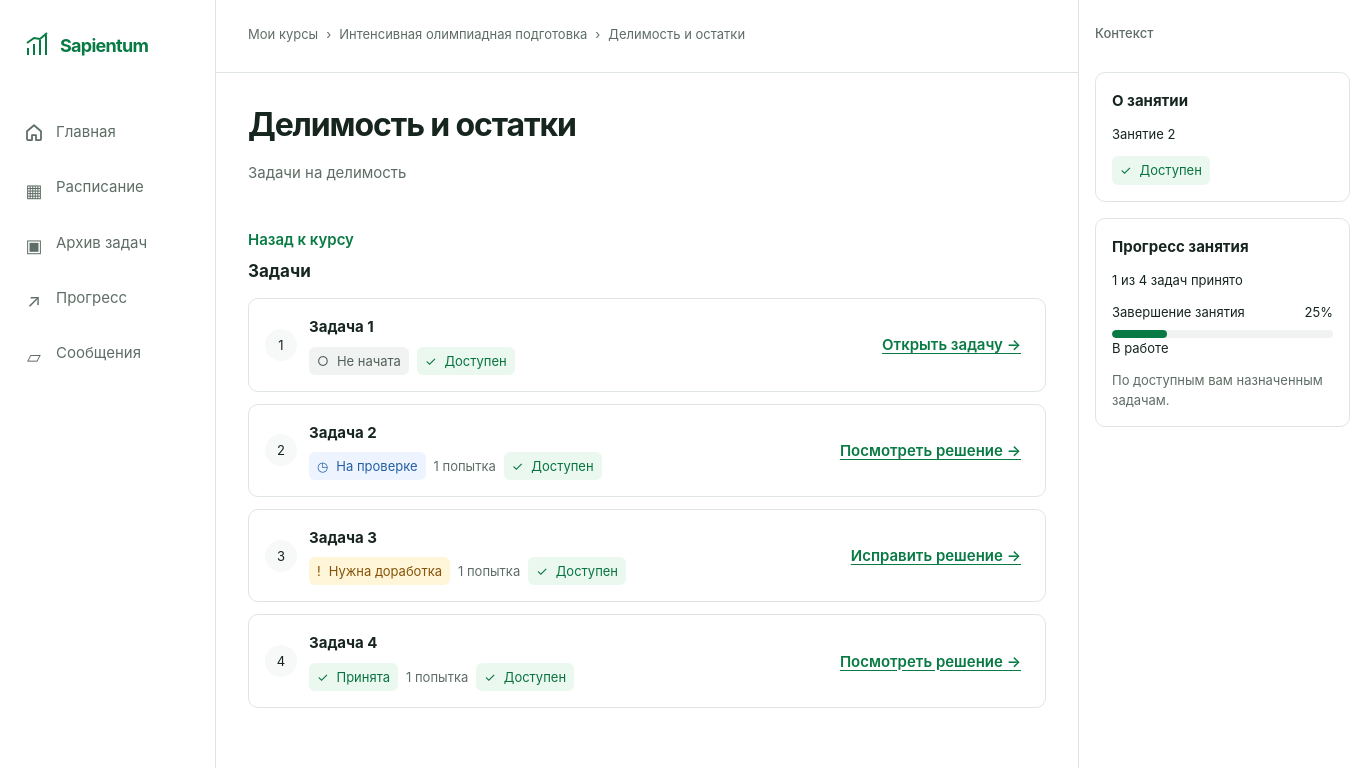
Lesson C4 workspace › returns to Course with Router and focuses main
What coordinates should you click on to do the following:
click the link "Интенсивная олимпиадная подготовка"
I would click on:
 (463, 34)
Its box is left=339, top=26, right=587, bottom=42.
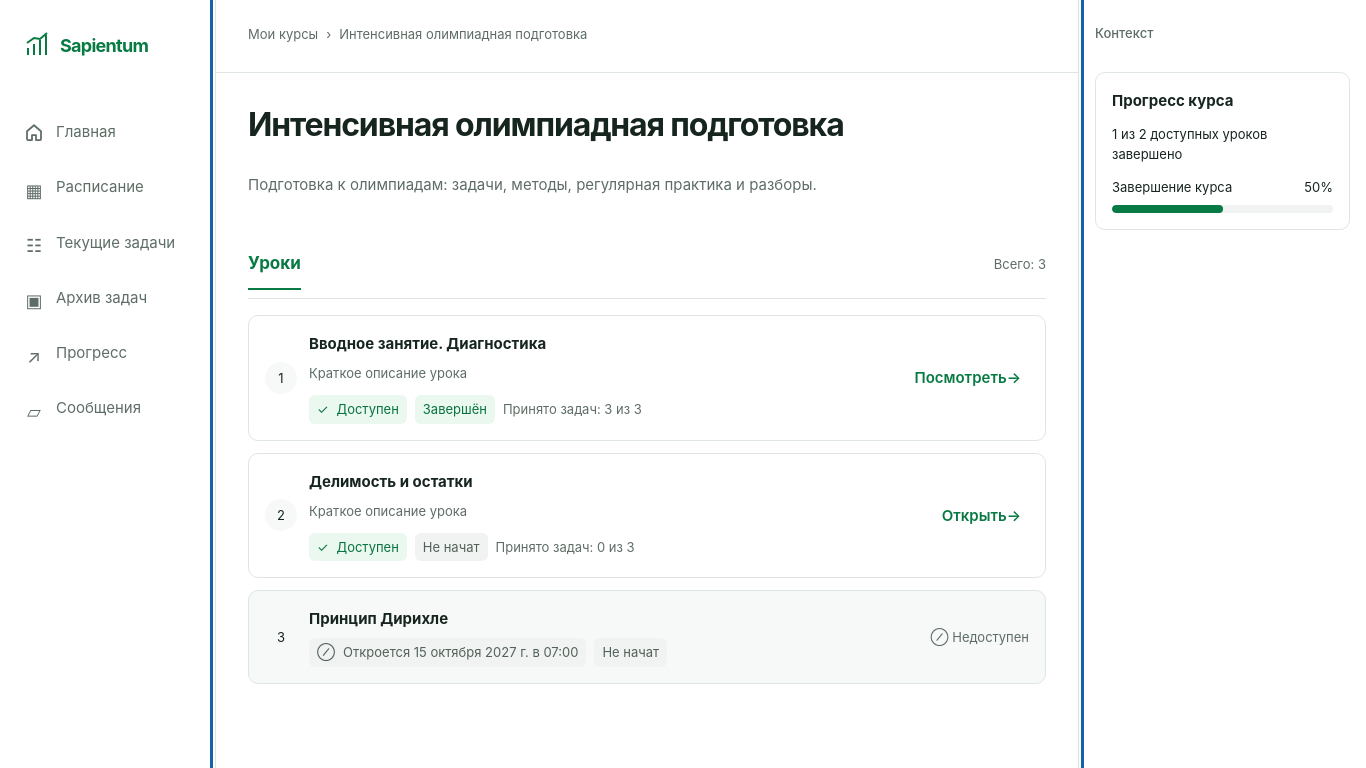
expect the heading "Интенсивная олимпиадная подготовка" is shown: met, box left=248, top=105, right=844, bottom=145
